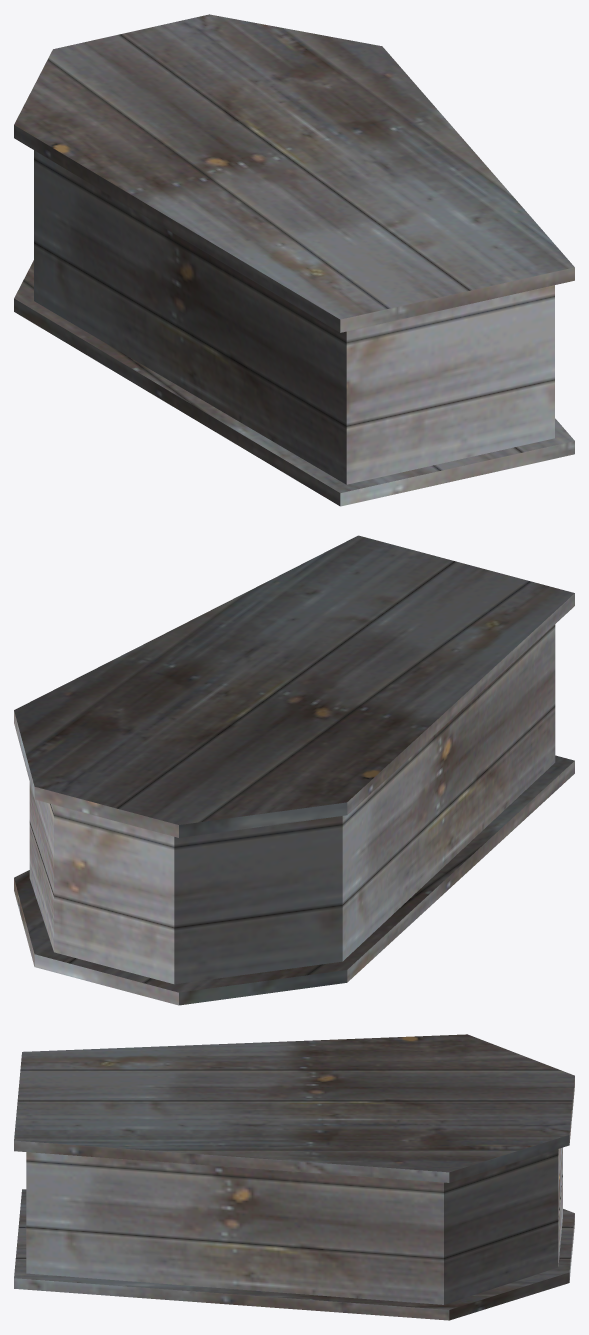
File: closedcoffin1.fbx
3 renders of one model, top to bottom at view 1: azimuth 30°, elevation 25°; view 2: azimuth 150°, elevation 25°; view 3: azimuth 270°, elevation 25°, orthographic. The views are drawn at different scales.
Visible parts, largest first — view 1: closedcoffin1; view 2: closedcoffin1; view 3: closedcoffin1.
Boxes of the visible parts, x1,y1,x2,y2 form: closedcoffin1: [14, 14, 574, 506]; closedcoffin1: [14, 535, 574, 1005]; closedcoffin1: [14, 1034, 574, 1320].
Bounding box in the file's own units: 5593 × 2800 × 9609.
